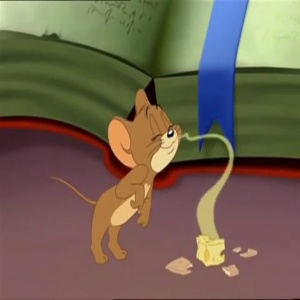Jerry: (103, 91, 189, 173)
